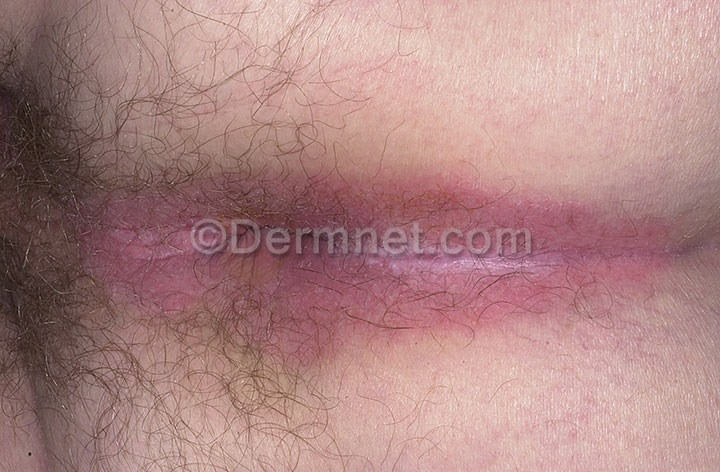Psoriasis: (84, 172, 668, 337)
